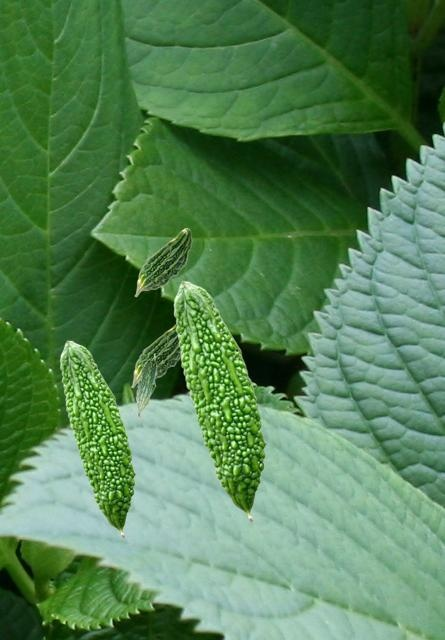ampalaya: (173, 280, 268, 523), (59, 340, 137, 538), (134, 227, 192, 297), (130, 324, 179, 388), (135, 353, 157, 420)
